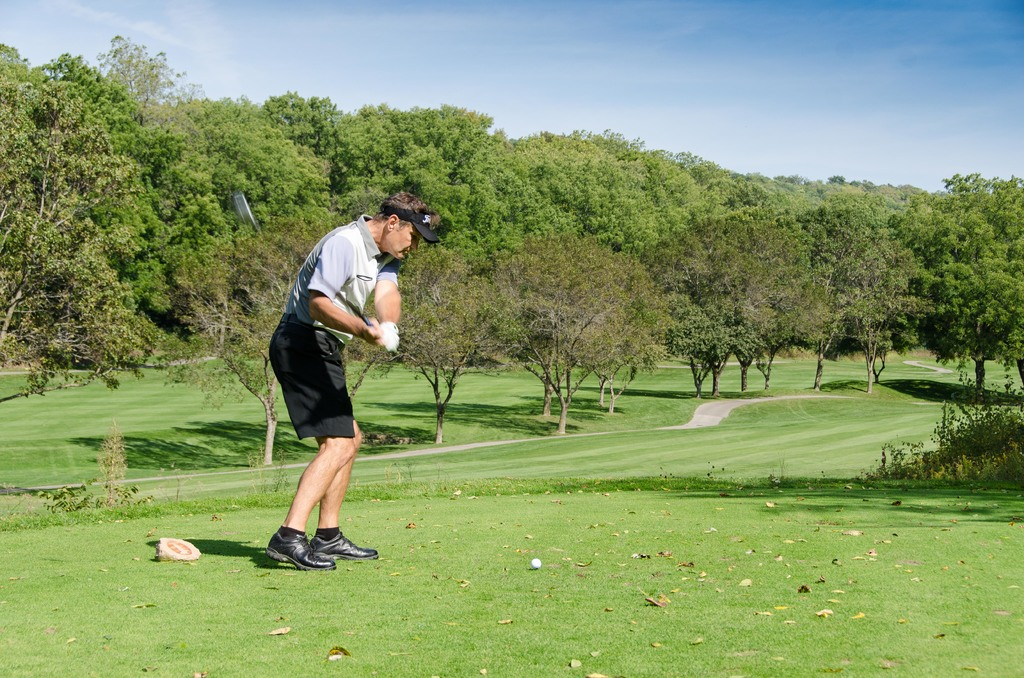Tree: (0, 34, 1024, 464)
